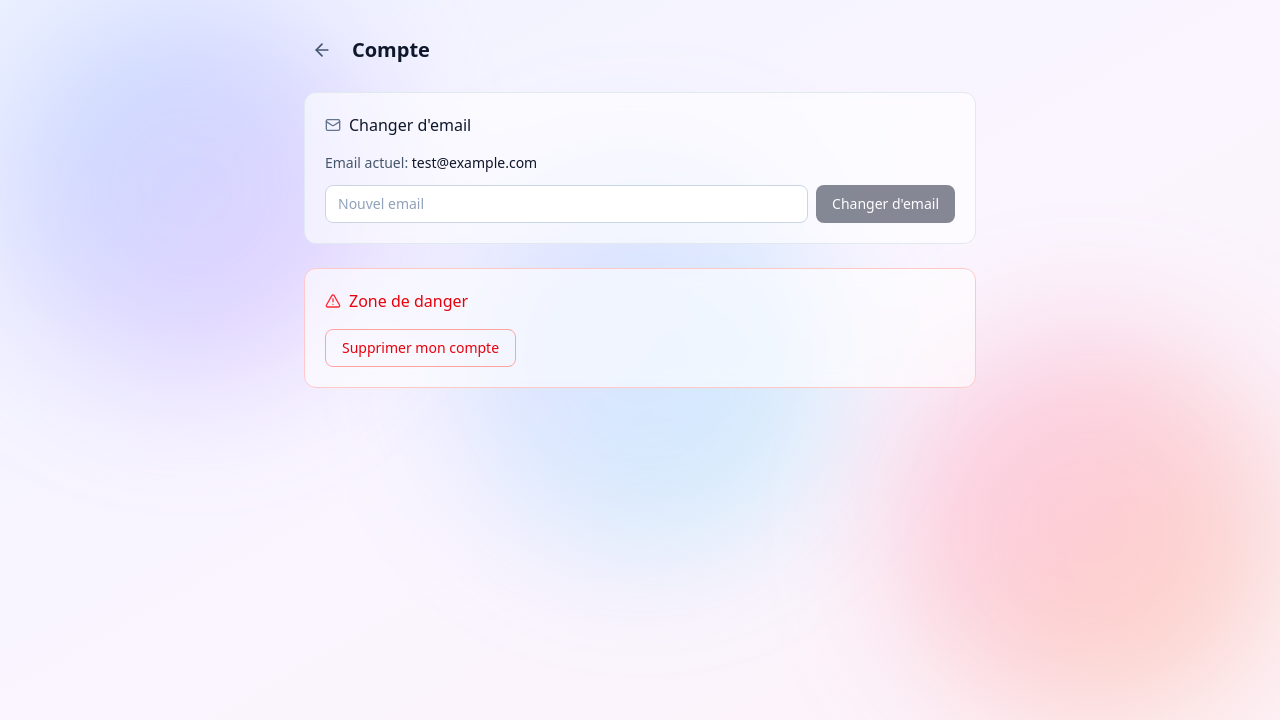
Test: AccountPage › shows delete account confirmation
Expected: the heading "Compte" is shown, [352, 36, 430, 64]
Click the button "Supprimer mon compte" at (421, 348), box [325, 329, 516, 367]
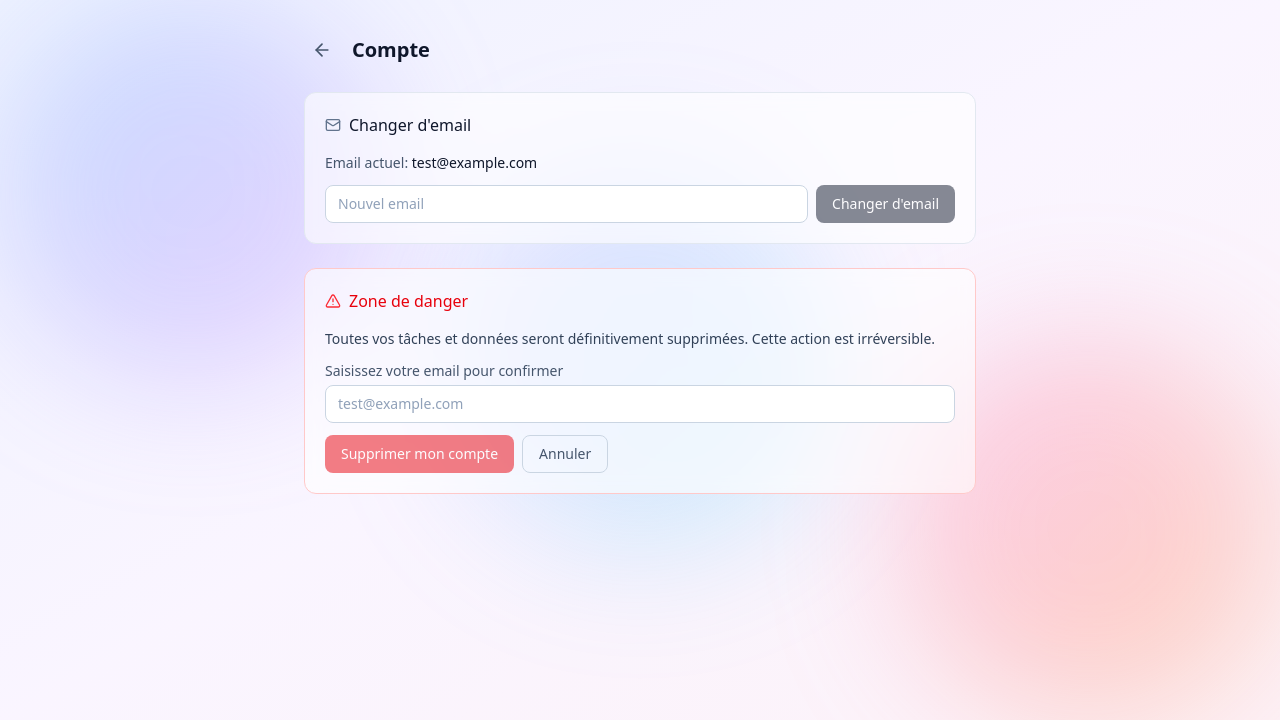
Result: the text "Saisissez votre email pour confirmer" is shown at [325, 361, 563, 380]
